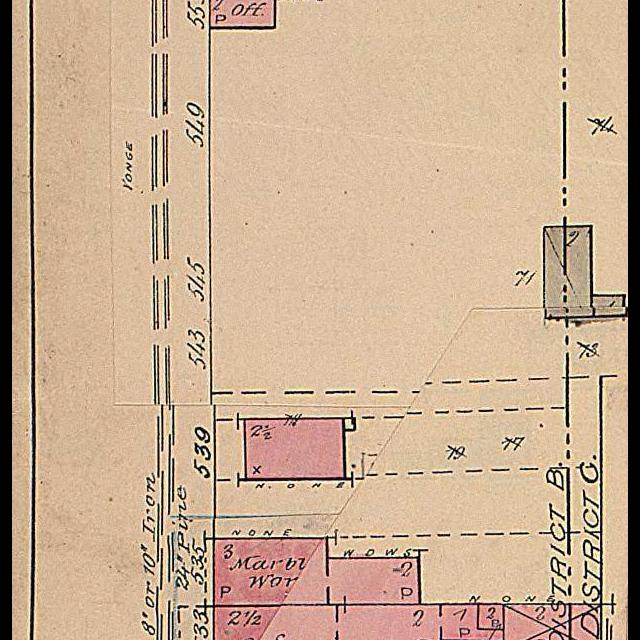building-footprints: (214, 538, 420, 607), (214, 604, 504, 640), (244, 419, 345, 479), (544, 227, 592, 317), (504, 605, 601, 640), (210, 0, 275, 28), (592, 297, 626, 317), (479, 605, 504, 630)
